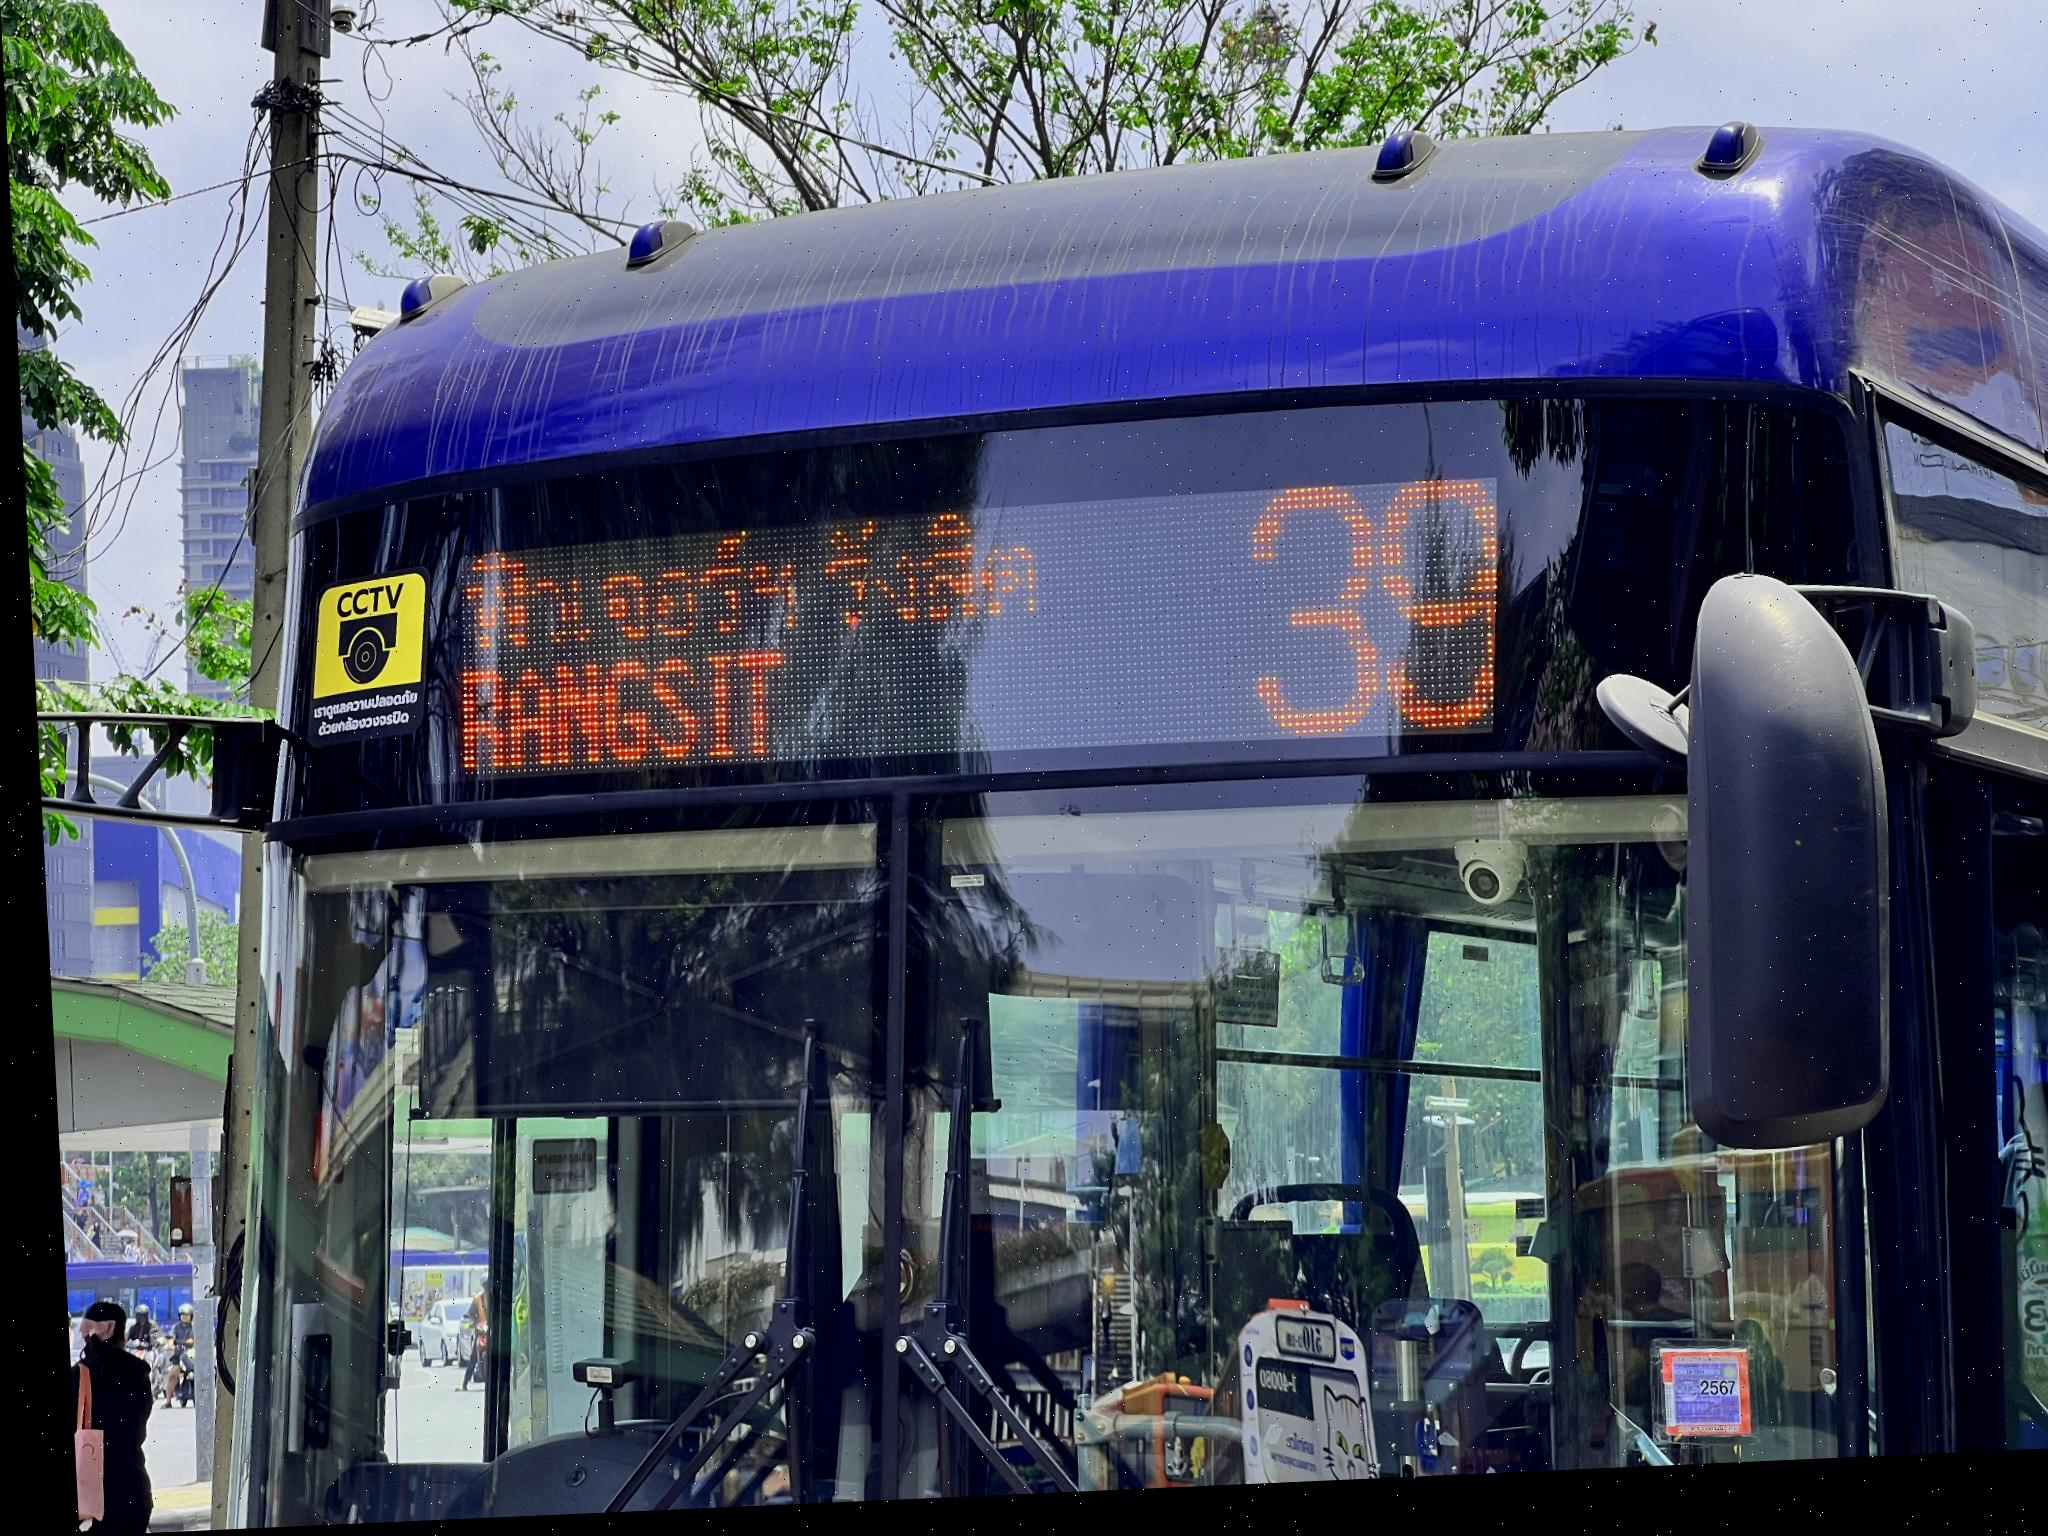Bus Line Number: (1182, 455, 1542, 781)
Destination Sign: (434, 503, 1055, 794)
TSB-Bus: (176, 142, 2048, 1531)
